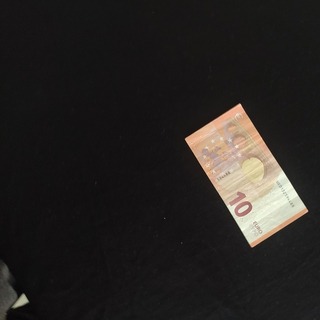10EUROBack: (184, 103, 308, 248)
